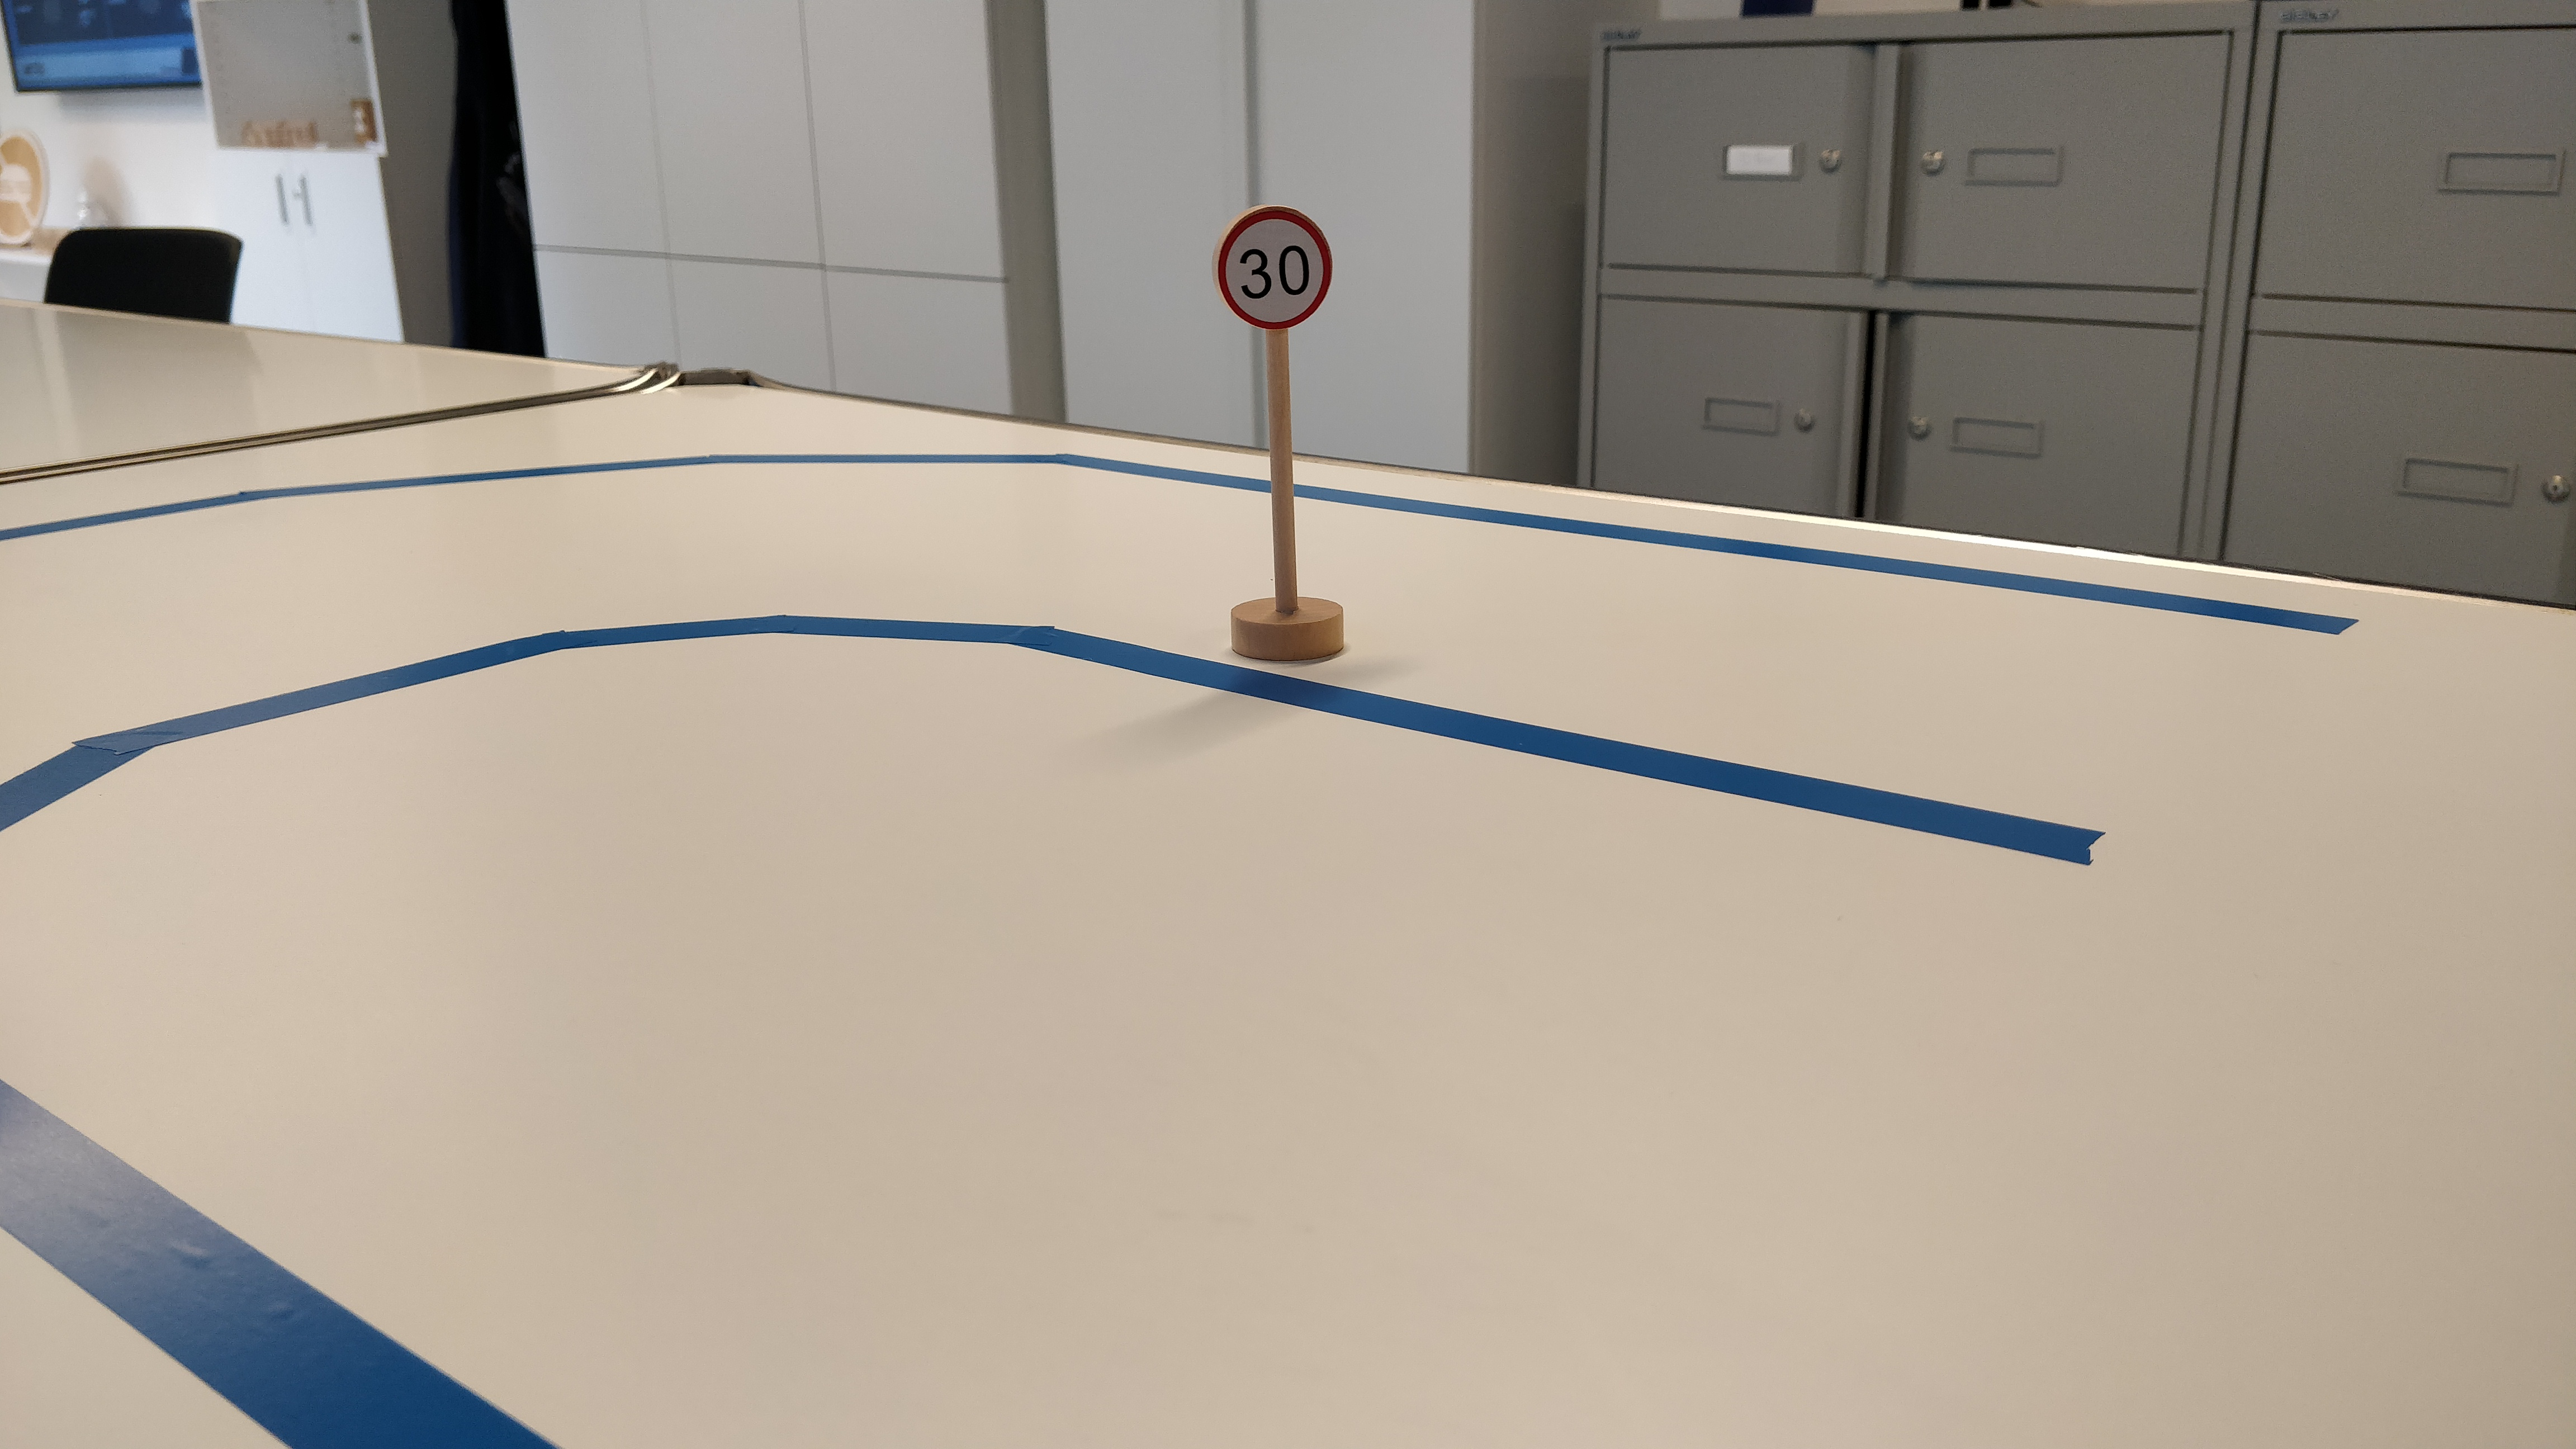Speed Limit 30: (1208, 198, 1337, 332)
